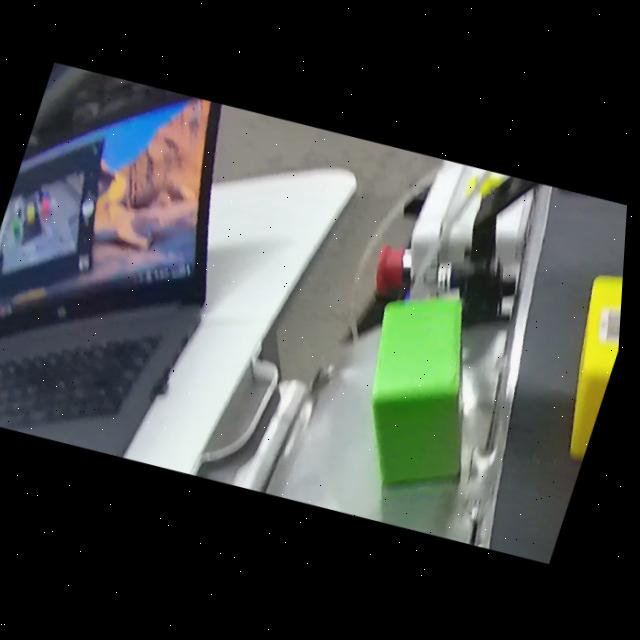greenBox: (330, 275, 523, 511)
yellowBox: (534, 255, 628, 471)
